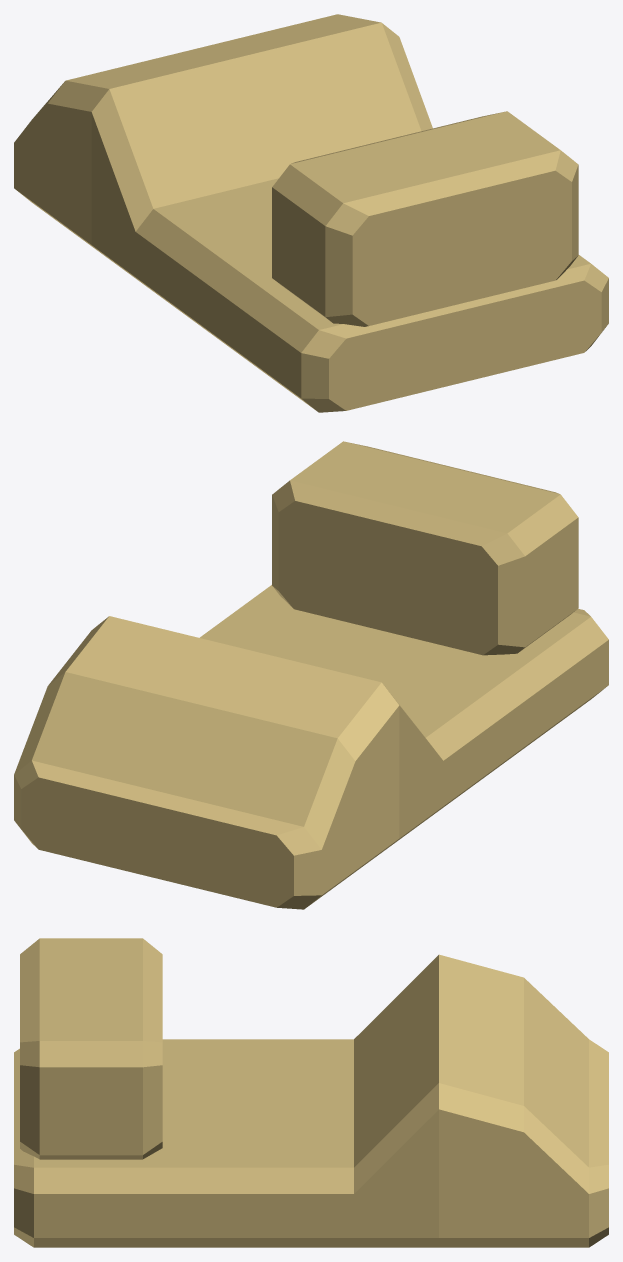
The model's file is tallow_heavy_b.glb.
3 renders of one model, top to bottom at view 1: azimuth 30°, elevation 25°; view 2: azimuth 150°, elevation 25°; view 3: azimuth 270°, elevation 25°, orthographic. The views are drawn at different scales.
Parts seen in each view (by area): view 1: tallow_heavy_b; view 2: tallow_heavy_b; view 3: tallow_heavy_b.
Part boxes in pixels (x1,y1,x2,y2): tallow_heavy_b: (14,14,608,412); tallow_heavy_b: (14,441,608,909); tallow_heavy_b: (14,938,608,1247).
Bounding box in the file's own units: 4.1 × 2.55 × 7.1.
